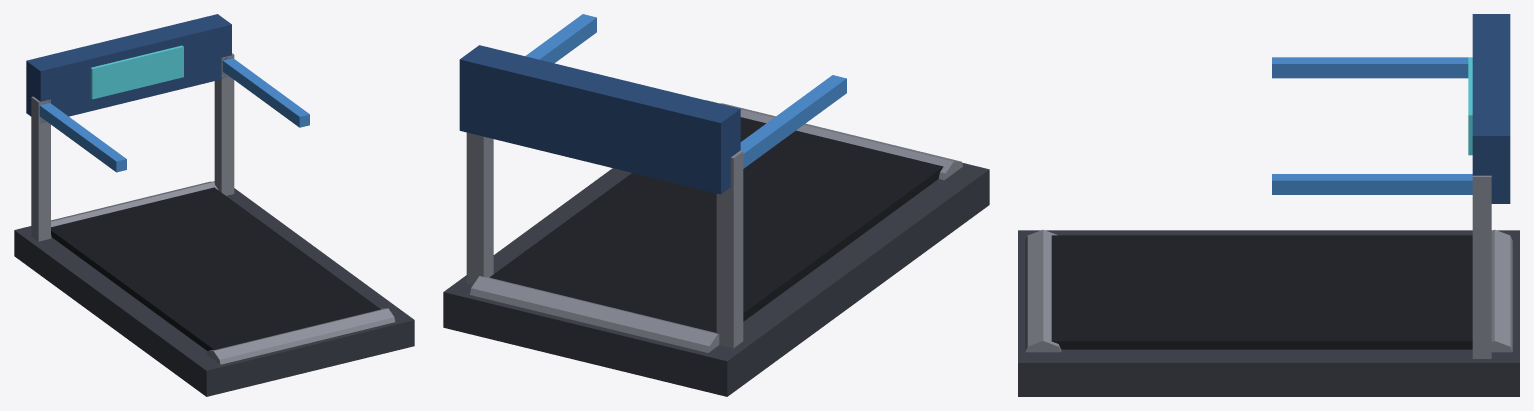
The model's file is mdl_caminadora.fbx.
3 views of the same model, side by side, from view 1: azimuth 30°, elevation 25°; view 2: azimuth 150°, elevation 25°; view 3: azimuth 270°, elevation 25° (orthographic). The views are drawn at different scales.
Parts seen in each view (by area): view 1: mdl_caminadora; view 2: mdl_caminadora; view 3: mdl_caminadora.
Part boxes in pixels (x1,y1,x2,y2): mdl_caminadora: [14, 14, 414, 396]; mdl_caminadora: [443, 14, 989, 396]; mdl_caminadora: [1018, 14, 1519, 396].
Size of the model in its own units: 500 by 450 by 800.
